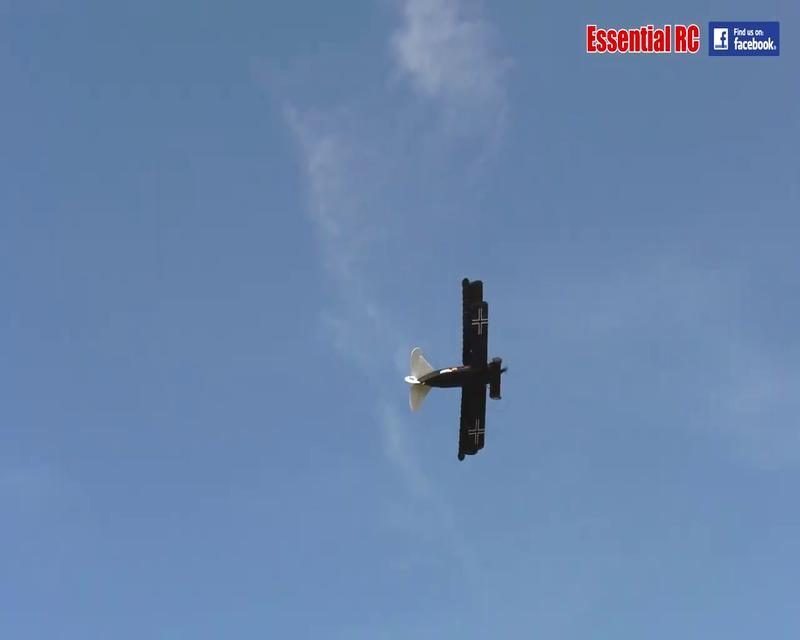UAV: (404, 276, 507, 462)
